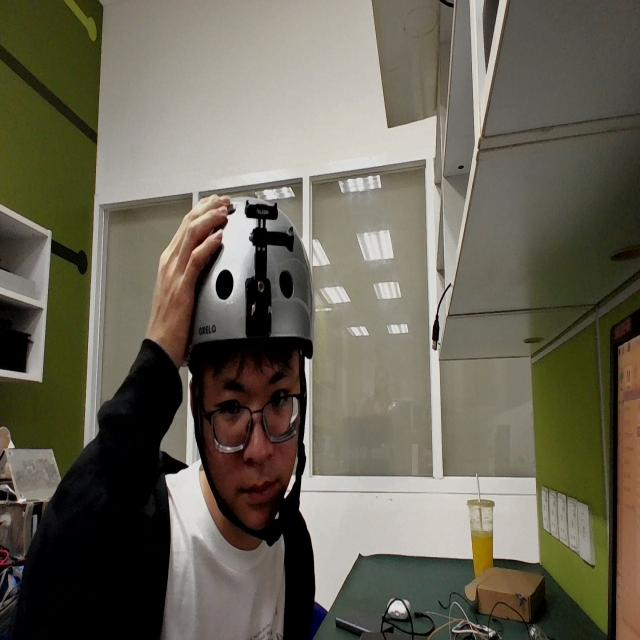With Helmet: (101, 154, 385, 586)
